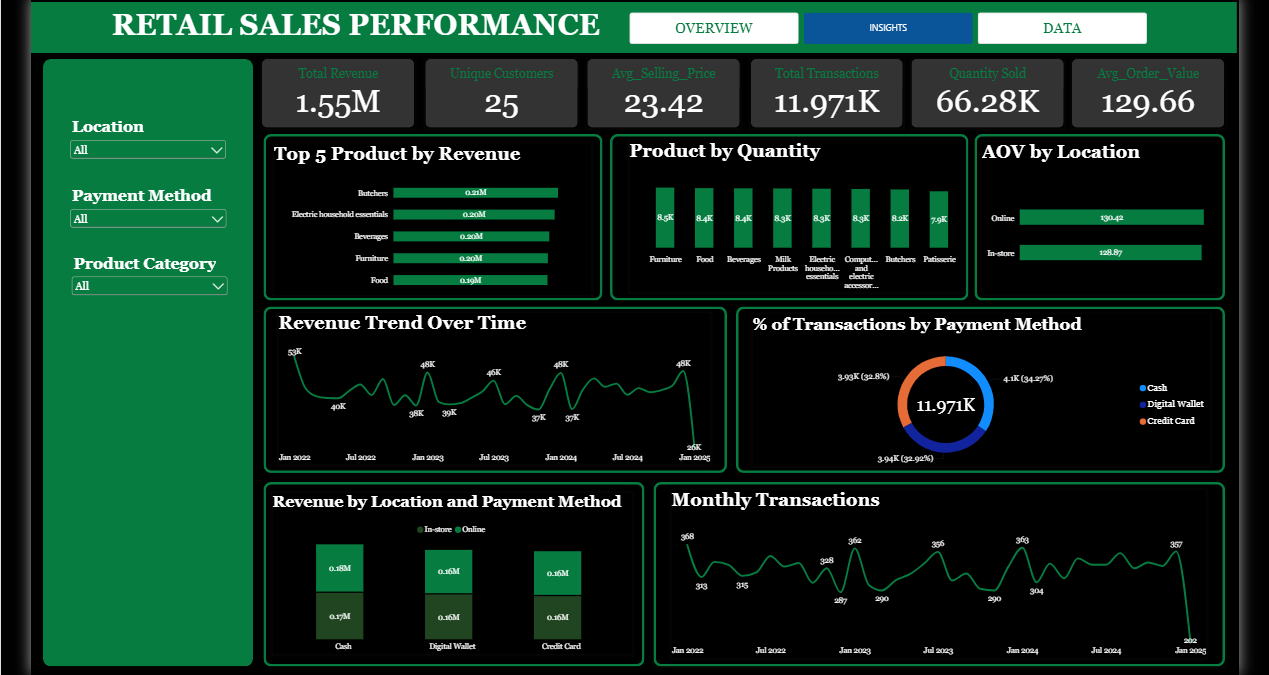

Layout of this report page (visuals, bound fields, positions):
{"tool":"powerbi","page":{"name":"OVERVIEW","canvas":[1920,1080],"ordinal":0},"visuals":[{"type":"shape","box":[19.1,100.2,334,966.3],"z":0},{"type":"cardVisual","fields":{"Data":["Sum(retail_store_sales.Quantity)"]},"box":[1401.6,100.2,242.9,109.8],"z":0,"group":"g8"},{"type":"shape","box":[369.8,219.5,539.2,264.8],"z":0,"group":"g1"},{"type":"shape","box":[921,219.5,570.2,264.8],"z":0,"group":"g2"},{"type":"shape","box":[0,9.5,1918.3,81.1],"z":1000},{"type":"slicer","fields":{"Values":["retail_store_sales.Location"]},"box":[57.6,193.3,257.5,73.5],"z":1000,"group":"g9"},{"type":"textbox","title":"RETAIL SALES PERFORMANCE","box":[128.8,19.1,780.2,64.4],"z":2000},{"type":"cardVisual","fields":{"Data":["retail_store_sales.Avg_Selling_Price"]},"box":[884.5,100.2,242.8,109.4],"z":2000,"group":"g8"},{"type":"cardVisual","fields":{"Data":["Count(retail_store_sales.Transaction ID)"]},"box":[1144.4,100.2,241.8,109.6],"z":3000,"group":"g8"},{"type":"group","id":"g1","title":"Group 3","box":[369.8,219.5,539.2,264.8],"z":3000},{"type":"group","id":"g2","title":"Group 4","box":[921,219.5,570.2,264.8],"z":4000},{"type":"slicer","fields":{"Values":["retail_store_sales.Payment Method"]},"box":[57.6,303.3,258.6,74.1],"z":4000,"group":"g9"},{"type":"cardVisual","fields":{"Data":["Count(retail_store_sales.Customer ID)"]},"box":[627.2,100.2,242.9,109.8],"z":5000,"group":"g8"},{"type":"columnChart","title":"Product by Quantity","fields":{"Category":["retail_store_sales.Category"],"Y":["Sum(retail_store_sales.Quantity)"]},"box":[950.9,229.3,533.4,241.3],"z":5000,"group":"g2"},{"type":"slicer","fields":{"Values":["retail_store_sales.Category"]},"box":[60.2,410.9,257.5,73.5],"z":5000,"group":"g9"},{"type":"group","id":"g3","title":"Group 5","box":[990.2,773,909,293.5],"z":5000},{"type":"group","id":"g4","title":"Group 6","box":[1121.4,493.9,777.8,264.8],"z":6000},{"type":"cardVisual","fields":{"Data":["Sum(retail_store_sales.Total Spent)"]},"box":[367.4,100.2,242.9,109.8],"z":7000,"group":"g8"},{"type":"group","id":"g5","title":"Group 7","box":[1500.7,219.5,398.4,264.8],"z":7000},{"type":"group","id":"g6","title":"Group 8","box":[369.8,773,606,293.5],"z":8000},{"type":"cardVisual","fields":{"Data":["retail_store_sales.AOV"]},"box":[1656.3,100.2,242.8,109.4],"z":9000,"group":"g8"},{"type":"group","id":"g7","title":"Group 9","box":[369.8,493.9,737.2,264.8],"z":9000},{"type":"group","id":"g8","title":"Group 1","box":[367.4,100.2,1531.8,109.8],"z":10000},{"type":"barChart","title":"Top 5 Product by Revenue","fields":{"Category":["retail_store_sales.Category"],"Y":["Sum(retail_store_sales.Total Spent)"]},"box":[387.2,233.2,504.4,241.3],"z":10000,"group":"g1"},{"type":"group","id":"g9","title":"Group 2","box":[57.6,193.3,260.1,291.1],"z":11000},{"type":"shape","box":[1500.7,219.5,398.4,264.8],"z":11000,"group":"g5"},{"type":"shape","box":[369.8,493.9,737.2,264.8],"z":11000,"group":"g7"},{"type":"shape","box":[1121.4,493.9,777.8,264.8],"z":11000,"group":"g4"},{"type":"shape","box":[369.8,773,606,293.5],"z":11000,"group":"g6"},{"type":"shape","box":[990.2,773,909,293.5],"z":11000,"group":"g3"},{"type":"bookmarkNavigator","box":[952,26.2,825.5,50.1],"z":12000},{"type":"barChart","fields":{"Category":["retail_store_sales.Location"],"Y":["retail_store_sales.AOV"]},"box":[1513.6,231.3,374.3,243.3],"z":12000,"group":"g5"},{"type":"lineChart","title":"Revenue Trend Over Time","fields":{"Category":["retail_store_sales.Transaction Date.Variation.Date Hierarchy.Year","retail_store_sales.Transaction Date.Variation.Date Hierarchy.Month"],"Y":["Sum(retail_store_sales.Total Spent)"]},"box":[393.6,503.7,686.7,241.3],"z":12000,"group":"g7"},{"type":"donutChart","title":"% of Transactions by Payment Method","fields":{"Category":["retail_store_sales.Payment Method"],"Y":["CountNonNull(retail_store_sales.Transaction ID)"]},"box":[1146.5,505.7,727.6,241.3],"z":12000,"group":"g4"},{"type":"lineChart","title":"Monthly Transactions","fields":{"Category":["retail_store_sales.Transaction Date.Variation.Date Hierarchy.Year","retail_store_sales.Transaction Date.Variation.Date Hierarchy.Month"],"Y":["Count(retail_store_sales.Transaction ID)"]},"box":[1019.5,786,850.4,267.4],"z":12000,"group":"g3"},{"type":"columnChart","title":"Revenue by Location and Payment Method","fields":{"Category":["retail_store_sales.Payment Method"],"Series":["retail_store_sales.Location"],"Y":["Sum(retail_store_sales.Total Spent)"]},"box":[384.5,790.4,571.8,256.5],"z":12000,"group":"g6"}]}

Visuals, with their boxes on the page's 1920x1080 design canvas (x1, y1, x2, y2). These are canvas units, not pixel positions in the 1269x675 screenshot, which may show the page scaled, cropped or inside an application window:
shape: (19,100,353,1066)
cardVisual - Sum(retail_store_sales.Quantity): (1402,100,1644,210)
shape: (370,220,909,484)
shape: (921,220,1491,484)
shape: (0,10,1918,91)
slicer - retail_store_sales.Location: (58,193,315,267)
"RETAIL SALES PERFORMANCE" textbox: (129,19,909,84)
cardVisual - retail_store_sales.Avg_Selling_Price: (884,100,1127,210)
cardVisual - Count(retail_store_sales.Transaction ID): (1144,100,1386,210)
"Group 3" group: (370,220,909,484)
"Group 4" group: (921,220,1491,484)
slicer - retail_store_sales.Payment Method: (58,303,316,377)
cardVisual - Count(retail_store_sales.Customer ID): (627,100,870,210)
"Product by Quantity" columnChart: (951,229,1484,471)
slicer - retail_store_sales.Category: (60,411,318,484)
"Group 5" group: (990,773,1899,1066)
"Group 6" group: (1121,494,1899,759)
cardVisual - Sum(retail_store_sales.Total Spent): (367,100,610,210)
"Group 7" group: (1501,220,1899,484)
"Group 8" group: (370,773,976,1066)
cardVisual - retail_store_sales.AOV: (1656,100,1899,210)
"Group 9" group: (370,494,1107,759)
"Group 1" group: (367,100,1899,210)
"Top 5 Product by Revenue" barChart: (387,233,892,474)
"Group 2" group: (58,193,318,484)
shape: (1501,220,1899,484)
shape: (370,494,1107,759)
shape: (1121,494,1899,759)
shape: (370,773,976,1066)
shape: (990,773,1899,1066)
bookmarkNavigator: (952,26,1778,76)
barChart - retail_store_sales.Location x retail_store_sales.AOV: (1514,231,1888,475)
"Revenue Trend Over Time" lineChart: (394,504,1080,745)
"% of Transactions by Payment Method" donutChart: (1146,506,1874,747)
"Monthly Transactions" lineChart: (1020,786,1870,1053)
"Revenue by Location and Payment Method" columnChart: (384,790,956,1047)
